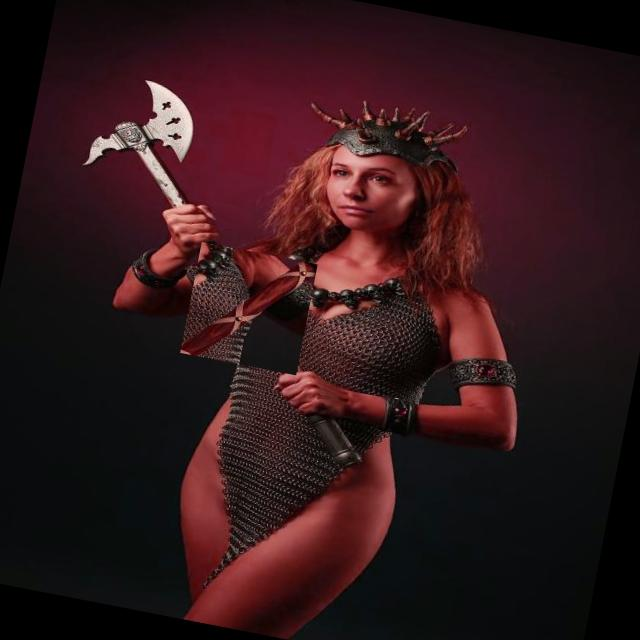Axe: (85, 80, 192, 207), (182, 263, 317, 357), (311, 416, 360, 467)
